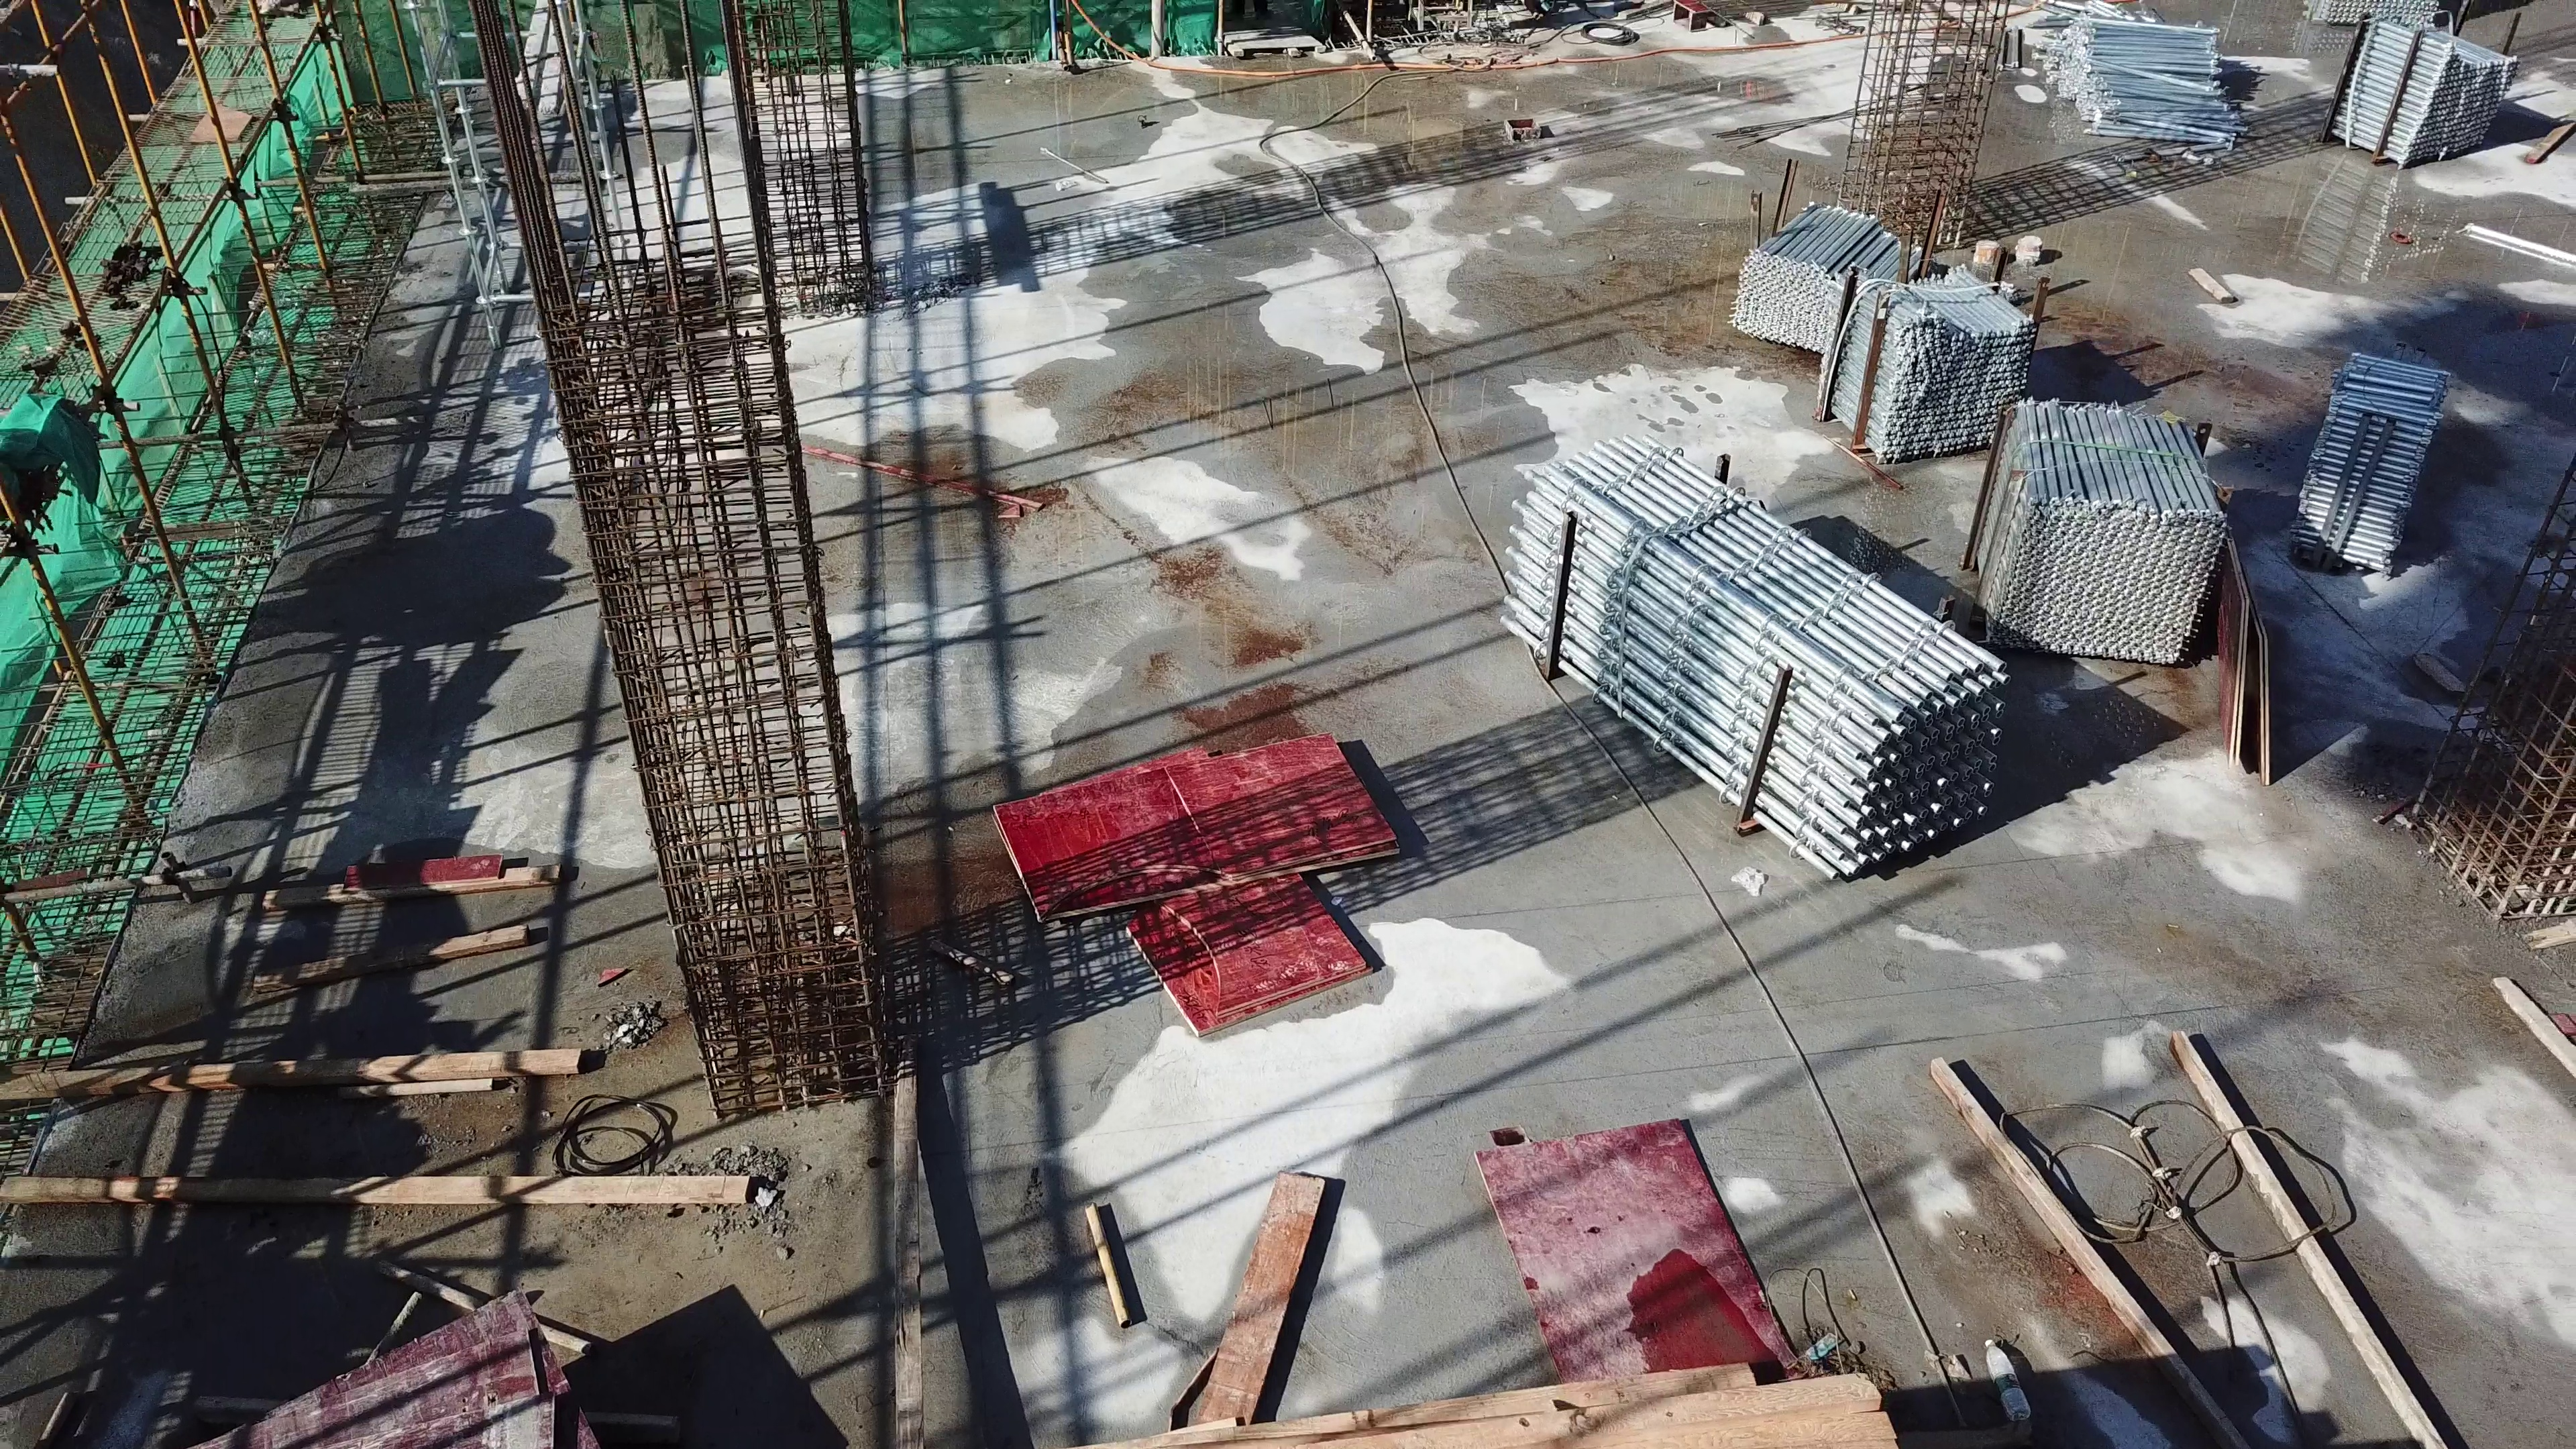board: (989, 725, 1415, 1047), (1472, 1099, 1805, 1380), (131, 1300, 630, 1449)
scaffold: (1486, 439, 2015, 883), (1721, 200, 2043, 471), (2029, 5, 2518, 175), (1957, 389, 2229, 679), (2275, 349, 2459, 589)
wood: (1007, 1332, 1939, 1449)
